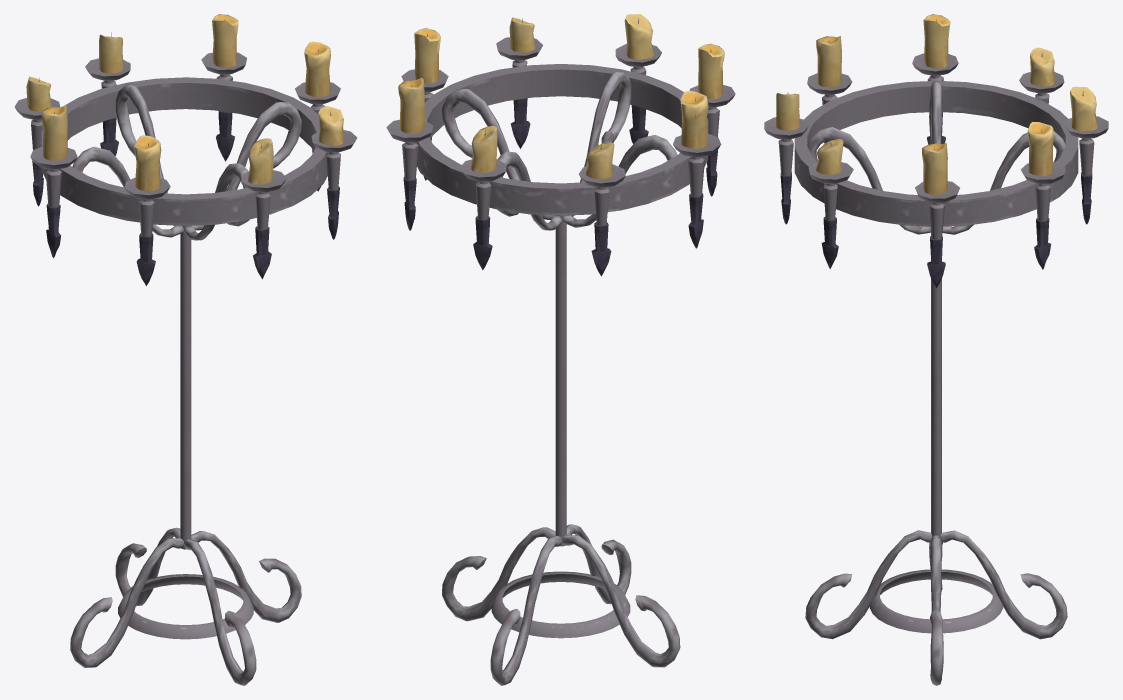
The model's file is CandleStick_Stand.glb.
3 renders of one model, left to right at view 1: azimuth 30°, elevation 25°; view 2: azimuth 150°, elevation 25°; view 3: azimuth 270°, elevation 25°, orthographic. The views are drawn at different scales.
Parts seen in each view (by area): view 1: CandleStick_Stand; view 2: CandleStick_Stand; view 3: CandleStick_Stand.
Boxes of the visible parts, <box> form: CandleStick_Stand: <box>14,14,357,685</box>; CandleStick_Stand: <box>386,14,735,685</box>; CandleStick_Stand: <box>764,14,1108,685</box>.
Bounding box in the file's own units: 0.7323 × 1.31 × 0.7313.
2 materials, 2 textured.
